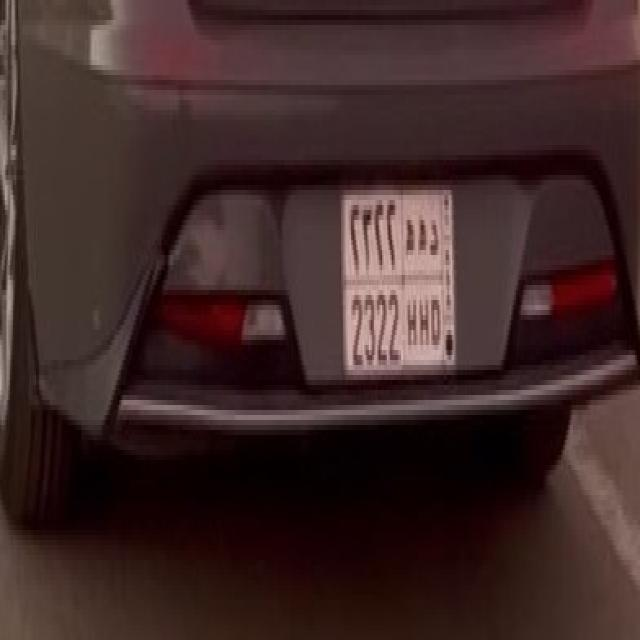Car-plate: (327, 150, 469, 418)
